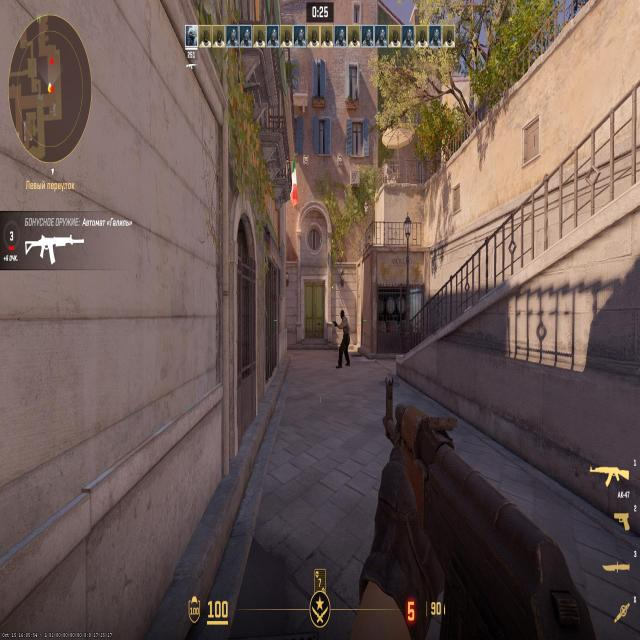T: (338, 310, 349, 357)
T_heat: (340, 316, 346, 329)
